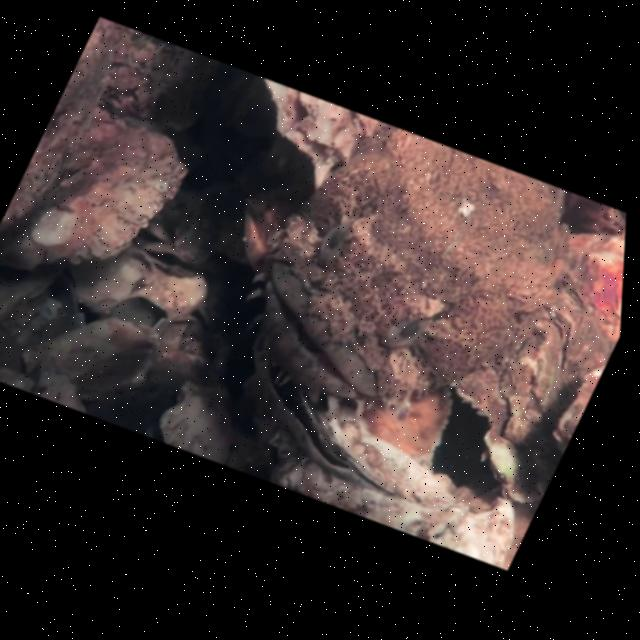Oyster-Closed: (0, 114, 187, 268), (252, 78, 377, 189)
Oyster-Open: (243, 332, 465, 520)
